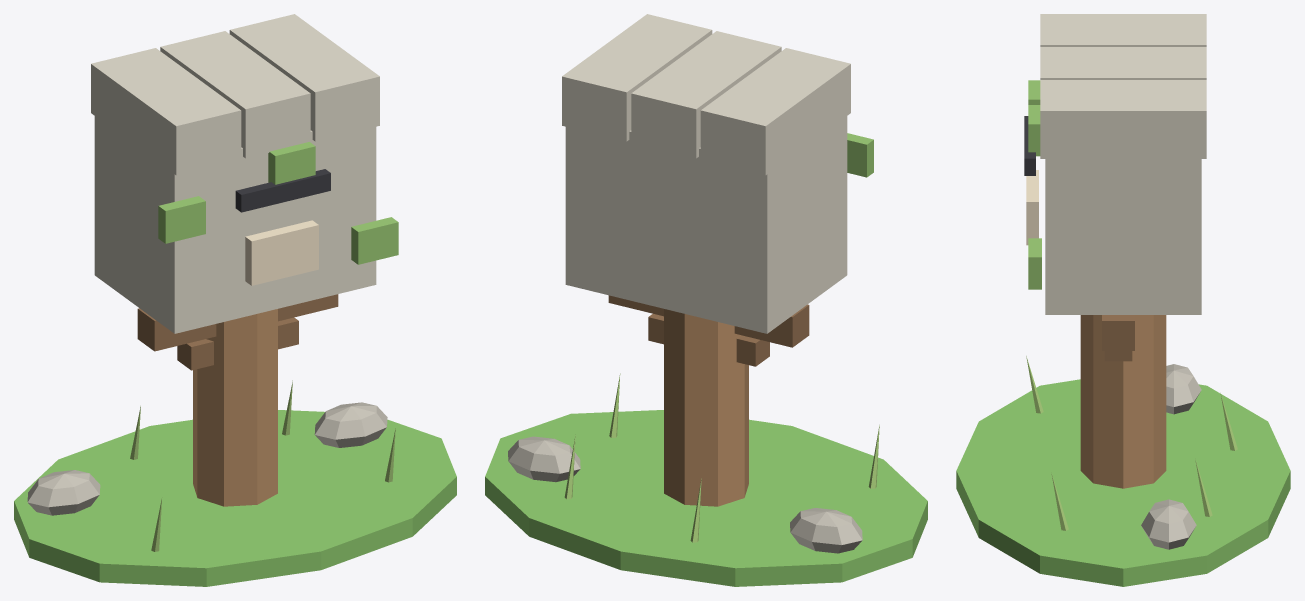
3 renders of one model, left to right at view 1: azimuth 30°, elevation 25°; view 2: azimuth 150°, elevation 25°; view 3: azimuth 270°, elevation 25°, orthographic. The views are drawn at different scales.
Parts seen in each view (by area): view 1: round grass base, chunky stone mailbox body, short rounded wooden post, separate top stone cap -0.31, separate top stone cap 0.31, separate top stone cap 0, front letter flap, small rock.001, small rock, chunky cross support, wide black slot, larger moss patch.001 (+3 smaller); view 2: round grass base, chunky stone mailbox body, short rounded wooden post, separate top stone cap -0.31, separate top stone cap 0, separate top stone cap 0.31, small rock.001, small rock, chunky cross support, small lower brace, larger moss patch; view 3: round grass base, chunky stone mailbox body, short rounded wooden post, separate top stone cap 0.31, separate top stone cap -0.31, separate top stone cap 0, small rock, small rock.001, chunky cross support, front letter flap, larger moss patch.001, larger moss patch.002 (+1 smaller).
Boxes of the visible parts, box(x1,y1,x2,y2) form: round grass base: box(14, 410, 456, 586); chunky stone mailbox body: box(94, 116, 376, 333); short rounded wooden post: box(193, 309, 277, 506); separate top stone cap -0.31: box(91, 48, 241, 175); separate top stone cap 0.31: box(229, 14, 379, 141); separate top stone cap 0: box(160, 31, 310, 158); front letter flap: box(245, 220, 318, 285); small rock.001: box(27, 470, 100, 515); small rock: box(314, 402, 387, 447); chunky cross support: box(137, 294, 338, 351); wide black slot: box(235, 169, 330, 212); larger moss patch.001: box(351, 217, 398, 264); round grass base: box(485, 410, 927, 586); chunky stone mailbox body: box(565, 116, 847, 333); short rounded wooden post: box(664, 309, 748, 506); separate top stone cap -0.31: box(700, 48, 850, 175); separate top stone cap 0: box(631, 31, 781, 158); separate top stone cap 0.31: box(562, 14, 712, 141); small rock.001: box(790, 508, 862, 553); small rock: box(508, 436, 580, 482); chunky cross support: box(608, 295, 809, 347); small lower brace: box(648, 313, 769, 366); larger moss patch: box(847, 133, 873, 177); round grass base: box(956, 379, 1290, 586); chunky stone mailbox body: box(1045, 159, 1201, 314); short rounded wooden post: box(1080, 315, 1166, 488); separate top stone cap 0.31: box(1040, 80, 1206, 158); separate top stone cap -0.31: box(1040, 14, 1206, 46); separate top stone cap 0: box(1040, 47, 1206, 79); small rock: box(1141, 499, 1196, 549); small rock.001: box(1166, 364, 1201, 414); chunky cross support: box(1102, 315, 1134, 350); front letter flap: box(1026, 170, 1038, 245); larger moss patch.001: box(1028, 238, 1041, 289); larger moss patch.002: box(1028, 105, 1040, 156).
Size of the model in its own units: 1.84 by 1.88 by 1.32.
